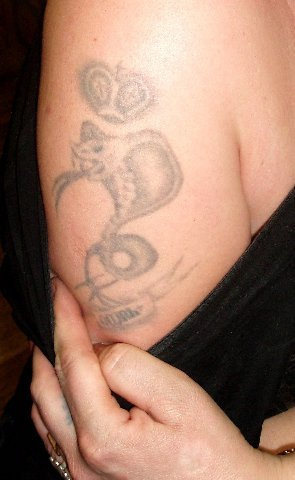tatu7_zmeya: (40, 119, 201, 287)
